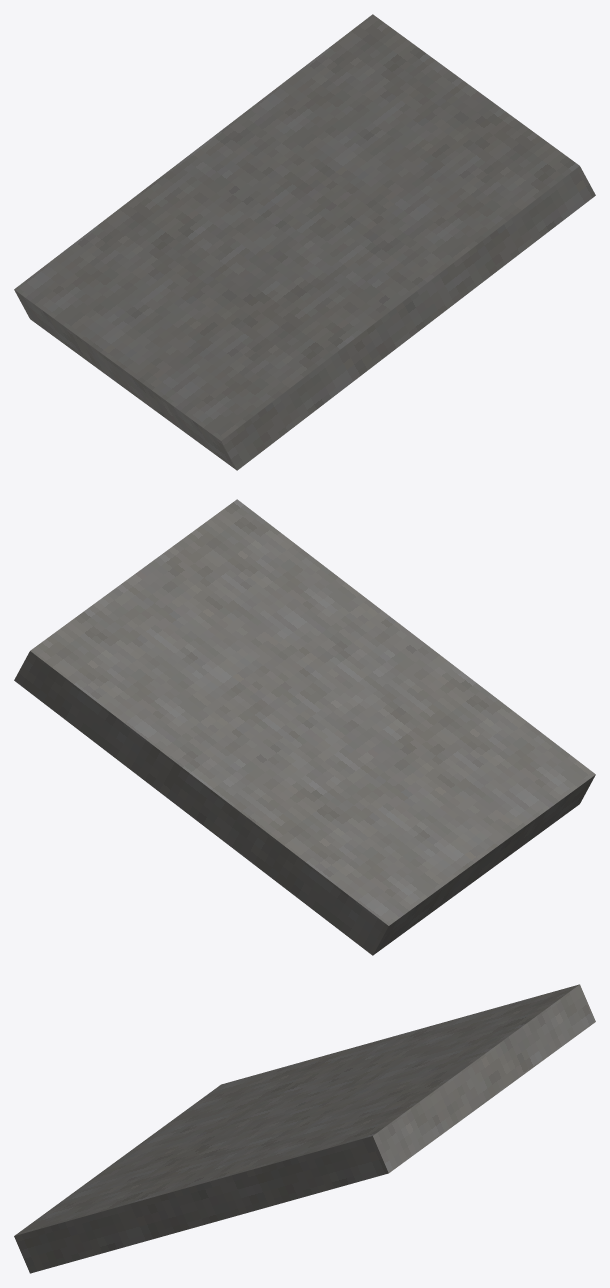
The model's file is half_ramp.glb.
3 renders of one model, top to bottom at view 1: azimuth 30°, elevation 25°; view 2: azimuth 150°, elevation 25°; view 3: azimuth 330°, elevation 25°, orthographic.
Parts seen in each view (by area): view 1: half_ramp; view 2: half_ramp; view 3: half_ramp.
Boxes of the visible parts, left/top/right/bottom form: half_ramp: left=14, top=14, right=595, bottom=470; half_ramp: left=14, top=499, right=595, bottom=955; half_ramp: left=14, top=984, right=595, bottom=1273.
Size of the model in its own units: 2.09 by 1.18 by 2.
1 material, 1 textured.
